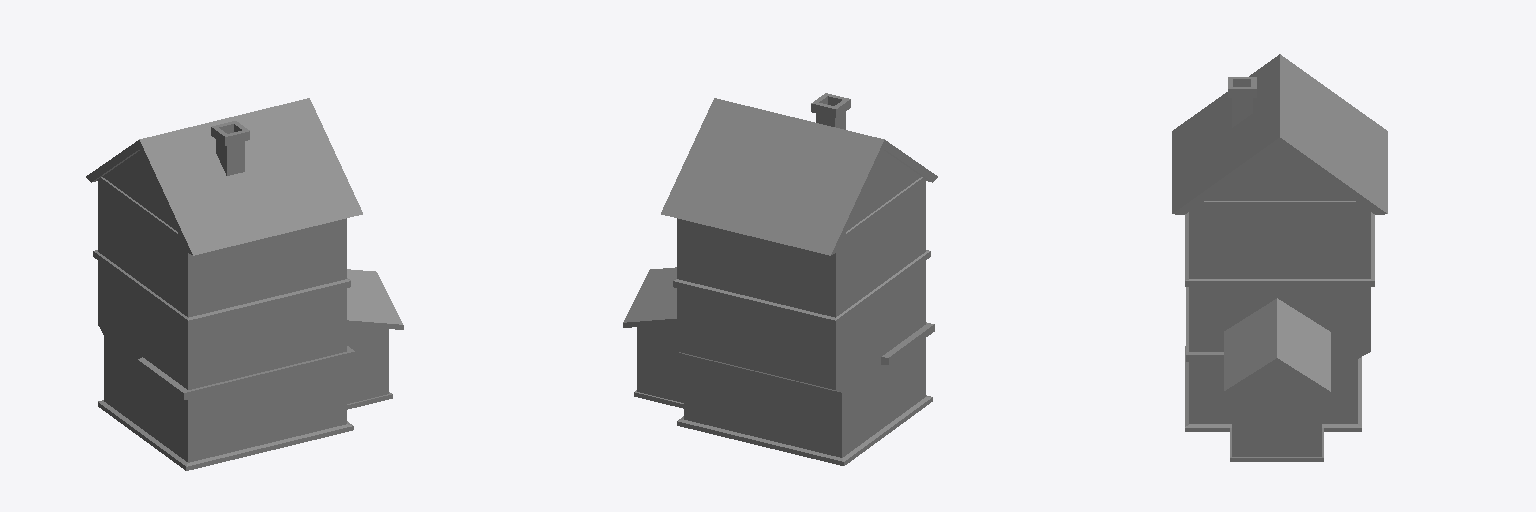
File: Hous_11_Cut.obj
The picture shows the model from 3 angles: view 1: azimuth 30°, elevation 25°; view 2: azimuth 150°, elevation 25°; view 3: azimuth 270°, elevation 25°; orthographic projection.
Parts seen in each view (by area): view 1: House11_R, House11_T; view 2: House11_R, House11_T; view 3: House11_R, House11_T.
Boxes of the visible parts, <box> form: House11_R: <box>86,98,403,389</box>; House11_T: <box>98,325,392,470</box>; House11_R: <box>623,93,937,389</box>; House11_T: <box>634,322,934,465</box>; House11_R: <box>1172,54,1387,396</box>; House11_T: <box>1185,287,1369,461</box>.
Size of the model in its own units: 9.83 by 11.93 by 7.69.